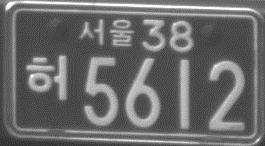1: (174, 57, 194, 131)
2: (207, 59, 247, 133)
3: (140, 16, 167, 52)
5: (83, 53, 119, 128)
6: (123, 56, 163, 128)
8: (169, 20, 195, 53)
서울_O: (76, 18, 134, 47)
허: (25, 52, 69, 102)
